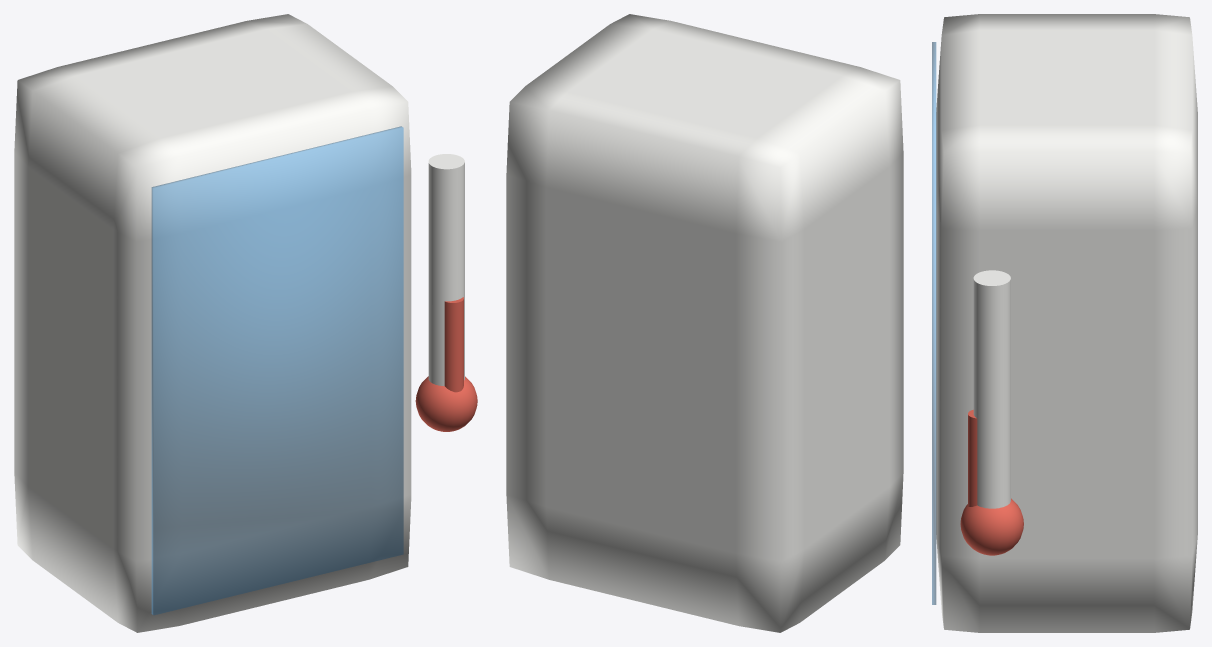
File: ph_devices.glb
3 views of the same model, side by side, from view 1: azimuth 30°, elevation 25°; view 2: azimuth 150°, elevation 25°; view 3: azimuth 270°, elevation 25° (orthographic). The views are drawn at different scales.
Visible parts, largest first — view 1: ph_devices; view 2: ph_devices; view 3: ph_devices.
Boxes of the visible parts, bbox=[...] form: ph_devices: bbox=[14, 14, 477, 632]; ph_devices: bbox=[506, 14, 903, 632]; ph_devices: bbox=[932, 14, 1197, 632].
Bounding box in the file's own units: 2.32 × 2.9 × 1.42.
